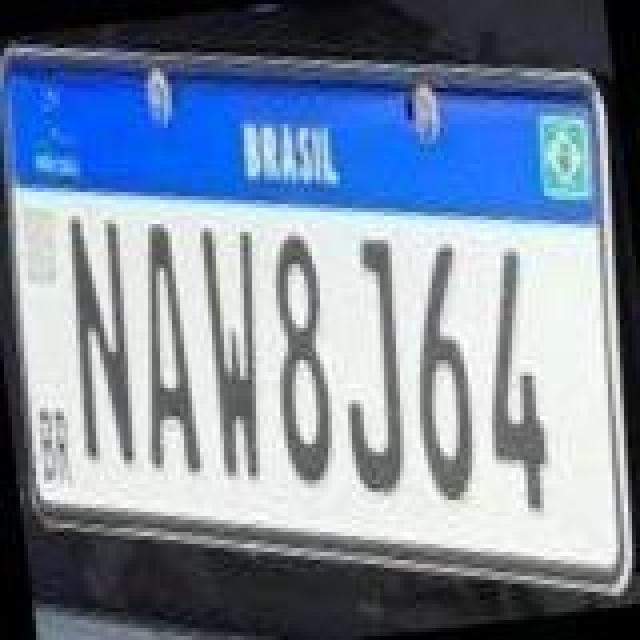4: (468, 238, 556, 514)
6: (394, 234, 486, 502)
8: (256, 230, 344, 490)
A: (118, 214, 202, 474)
J: (326, 232, 426, 496)
N: (54, 204, 146, 468)
W: (192, 220, 280, 484)
